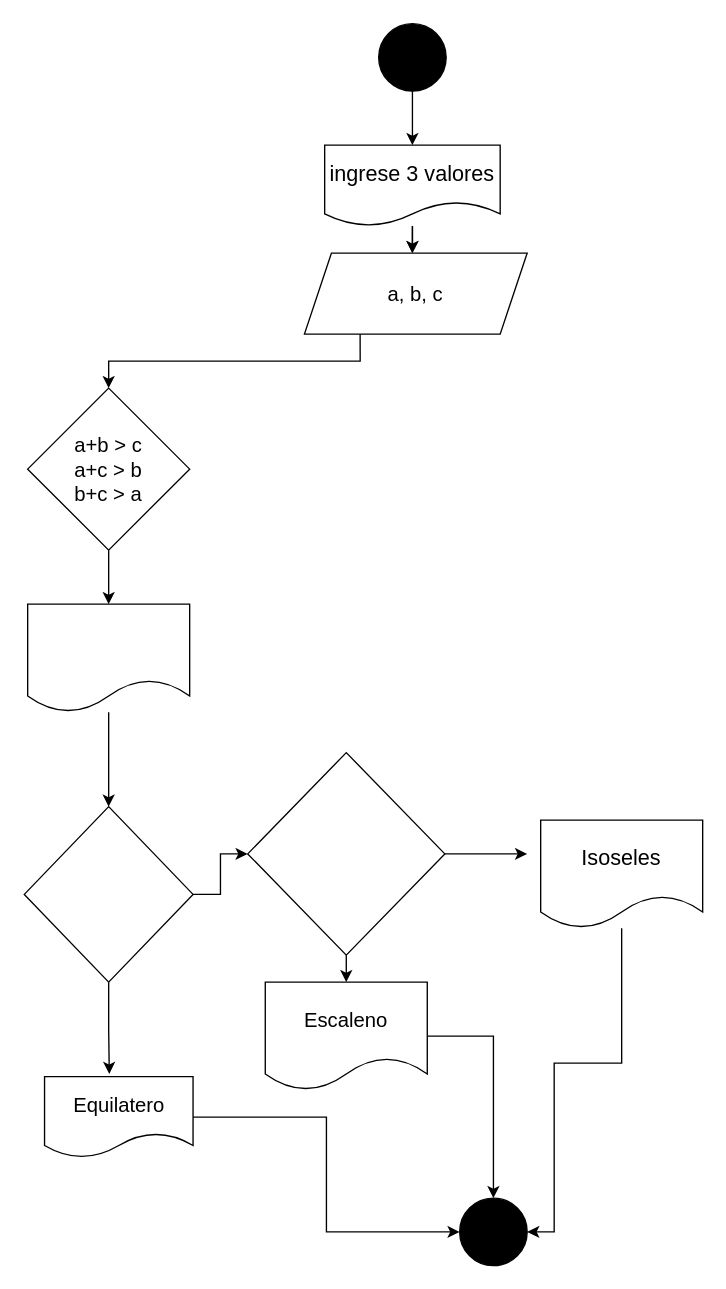
The diagram is 726 pixels wide and 1289 high, and some of its shapes have lost their labels. The centre of each missing label's shape, as x and y in pixels:
"a != b && b != c && c != a" goes at point (345, 853).
"a == b && b== c" goes at point (108, 893).
"Es un triangulo" goes at point (108, 657).
